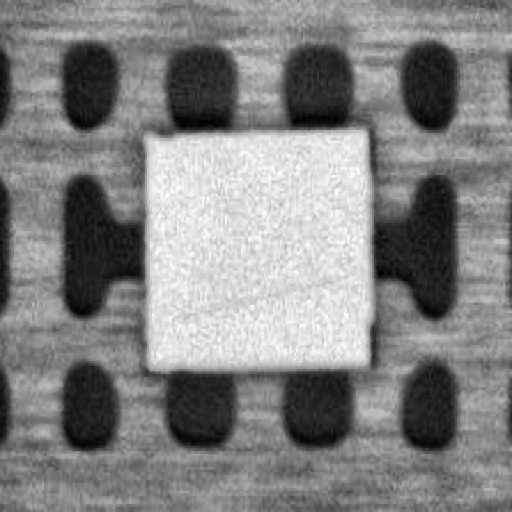DIE_CRACK: (270, 186, 490, 209)
